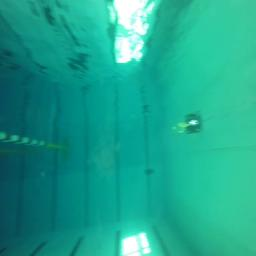Full: (144, 169, 154, 175)
front: (185, 119, 202, 135)
